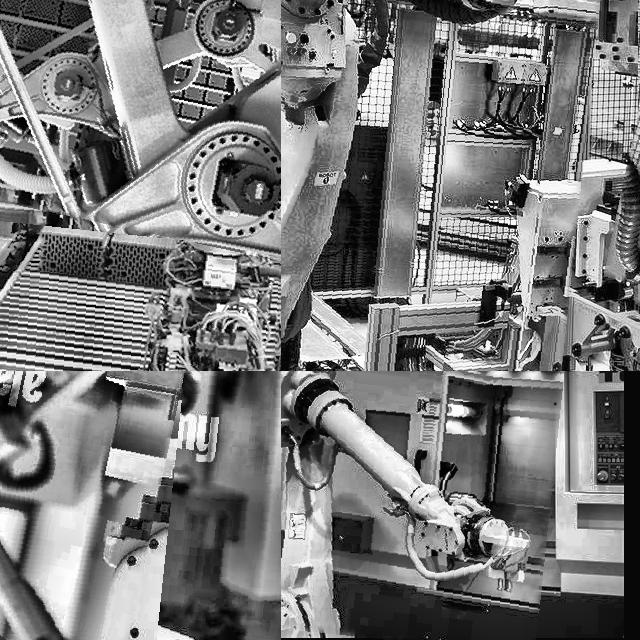robot: (281, 0, 592, 371), (0, 0, 281, 371), (0, 371, 281, 640), (281, 371, 558, 640), (0, 0, 281, 242), (0, 371, 199, 640)
